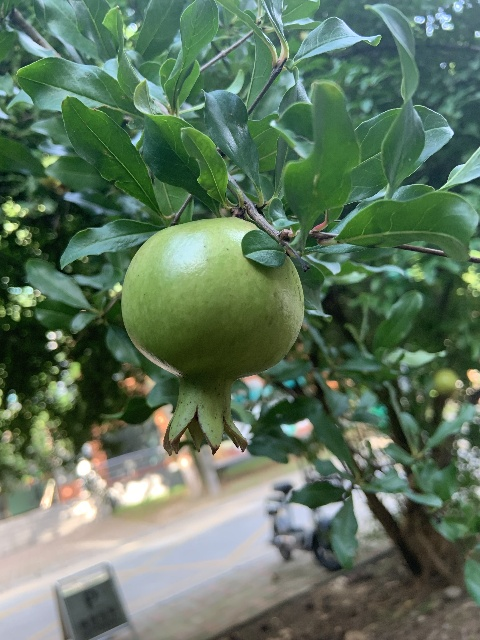mid-growth: (120, 218, 303, 456)
